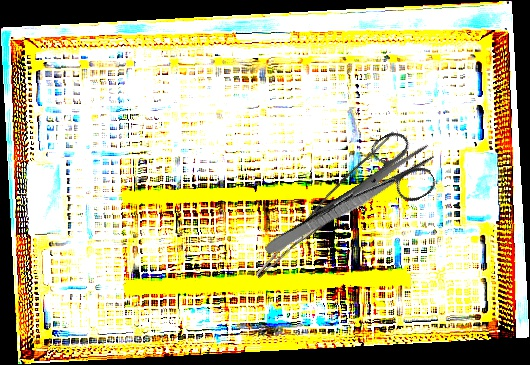Dressing Forceps: (262, 142, 437, 262)
Iris Scissors: (293, 125, 440, 251)
Tissue Forceps: (255, 126, 410, 295)
